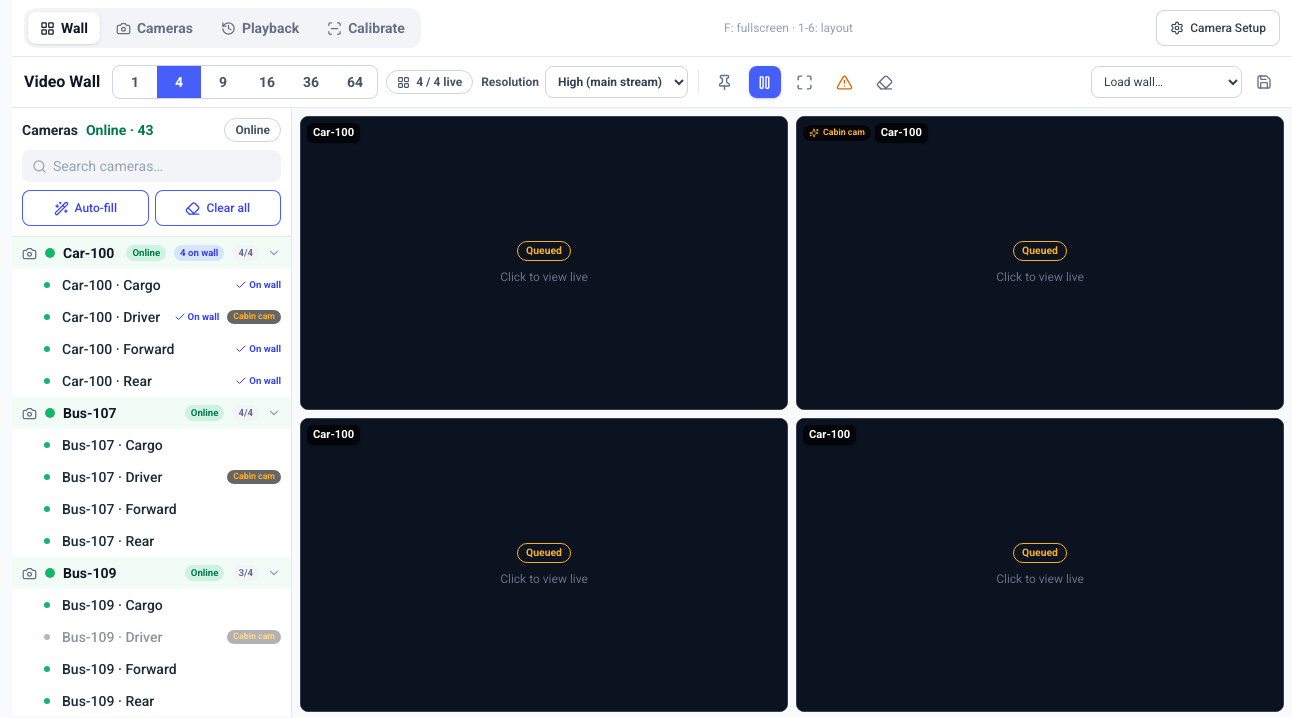
Test: VideoWallPage › clears every camera from the wall so a new layout can be built
The width and height of the screenshot is (1292, 718).
Check: the text "No cameras on the wall yet" is not shown
Click the button with test id "wall-clear-all".
click(218, 208)  # box [154,190,281,226]
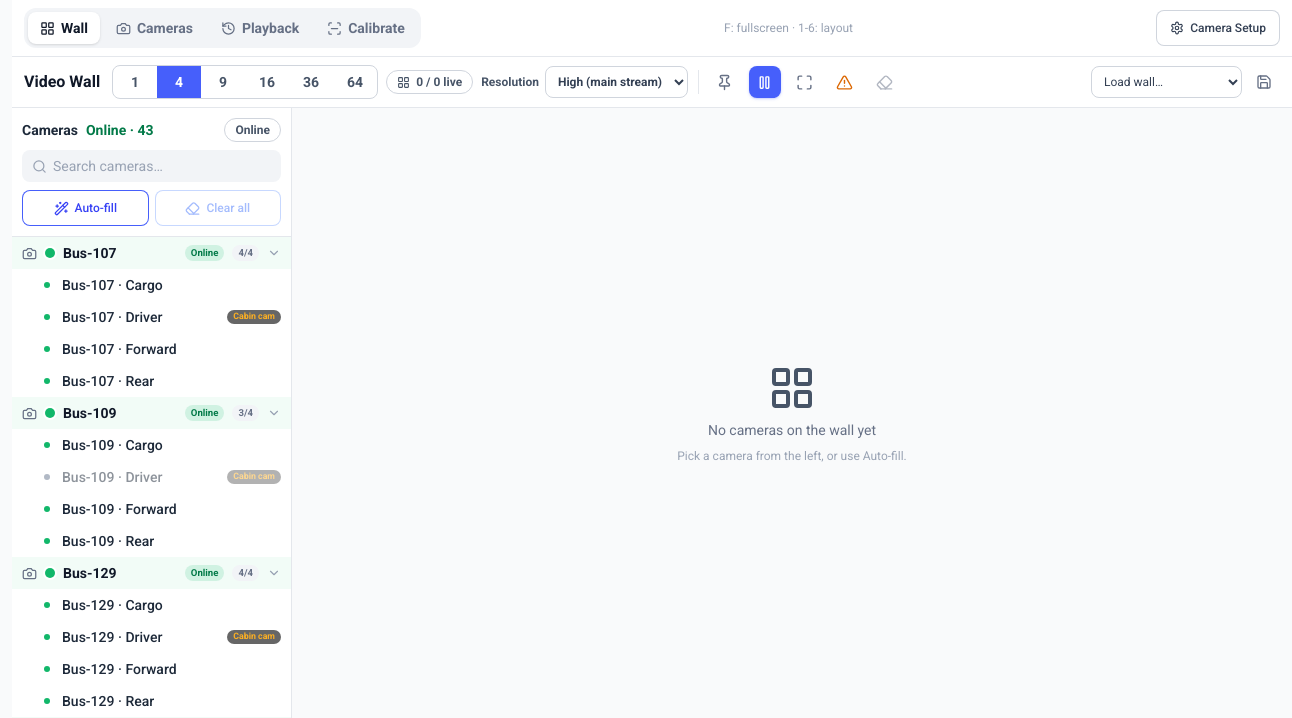
Check: the text "No cameras on the wall yet" is shown, box [708,420,876,440]
Check: the button with test id "wall-clear-all" is disabled, box [154,190,281,226]
Check: the button with test id "toolbar-clear-wall" is disabled, box [869,66,901,98]
